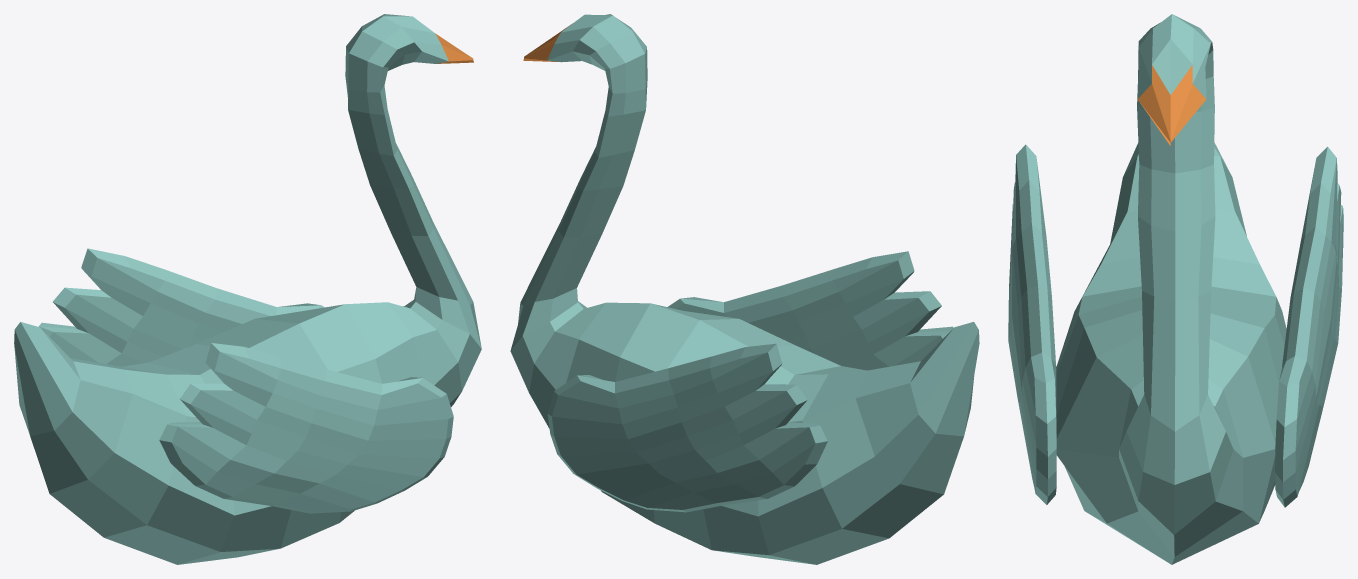
File: Env_Swan_01a.fbx
The picture shows the model from 3 angles, left to right: view 1: azimuth 30°, elevation 25°; view 2: azimuth 150°, elevation 25°; view 3: azimuth 270°, elevation 25°; orthographic projection. The views are drawn at different scales.
Parts seen in each view (by area): view 1: Swan Final; view 2: Swan Final; view 3: Swan Final.
Part boxes in pixels (<box>): Swan Final: <box>14,14,481,564</box>; Swan Final: <box>510,14,979,564</box>; Swan Final: <box>1008,14,1343,564</box>.
Size of the model in its own units: 134 by 139 by 70.77.
